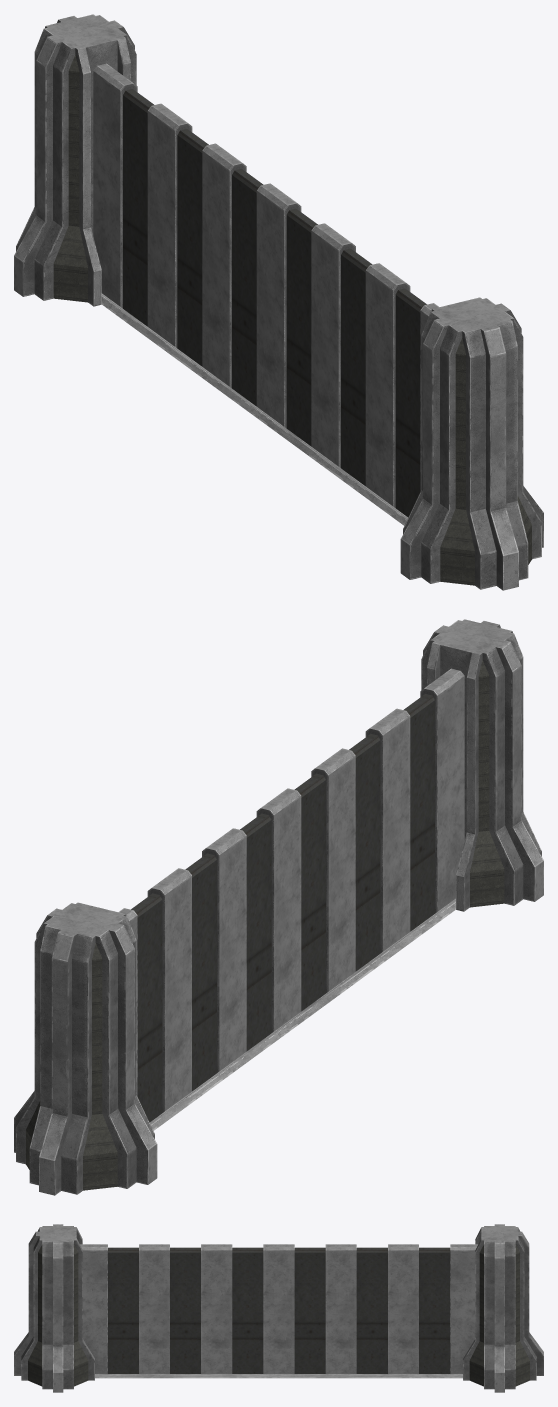
File: scifi_perimeter_wall_gate.glb
3 renders of one model, top to bottom at view 1: azimuth 30°, elevation 25°; view 2: azimuth 150°, elevation 25°; view 3: azimuth 270°, elevation 25°, orthographic. The views are drawn at different scales.
Visible parts, largest first — view 1: Cube.001, Cube.000; view 2: Cube.001, Cube.000; view 3: Cube.001, Cube.000.
Boxes of the visible parts, x1=… form: Cube.001: x1=93, y1=63, x2=439, y2=517; Cube.000: x1=14, y1=14, x2=543, y2=590; Cube.001: x1=118, y1=668, x2=464, y2=1122; Cube.000: x1=14, y1=619, x2=543, y2=1195; Cube.001: x1=80, y1=1244, x2=477, y2=1373; Cube.000: x1=14, y1=1224, x2=543, y2=1392.
Size of the model in its own units: 4 by 7 by 24.
1 material, 1 textured.
